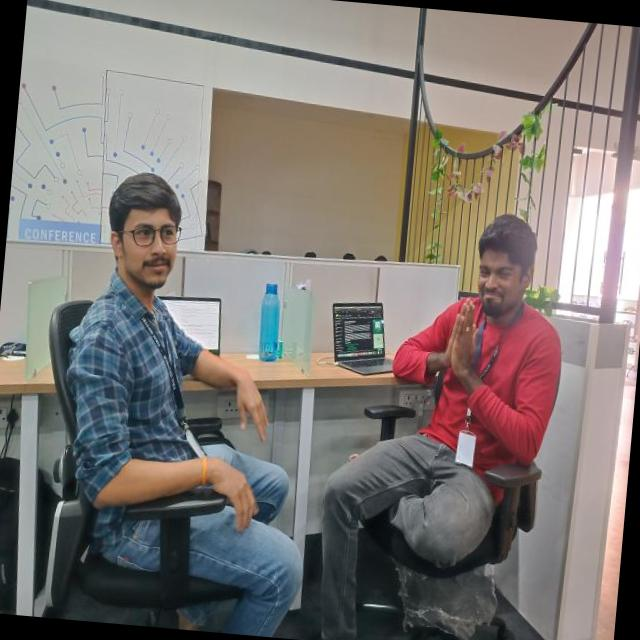id_card: (129, 296, 211, 459), (444, 305, 510, 466)
